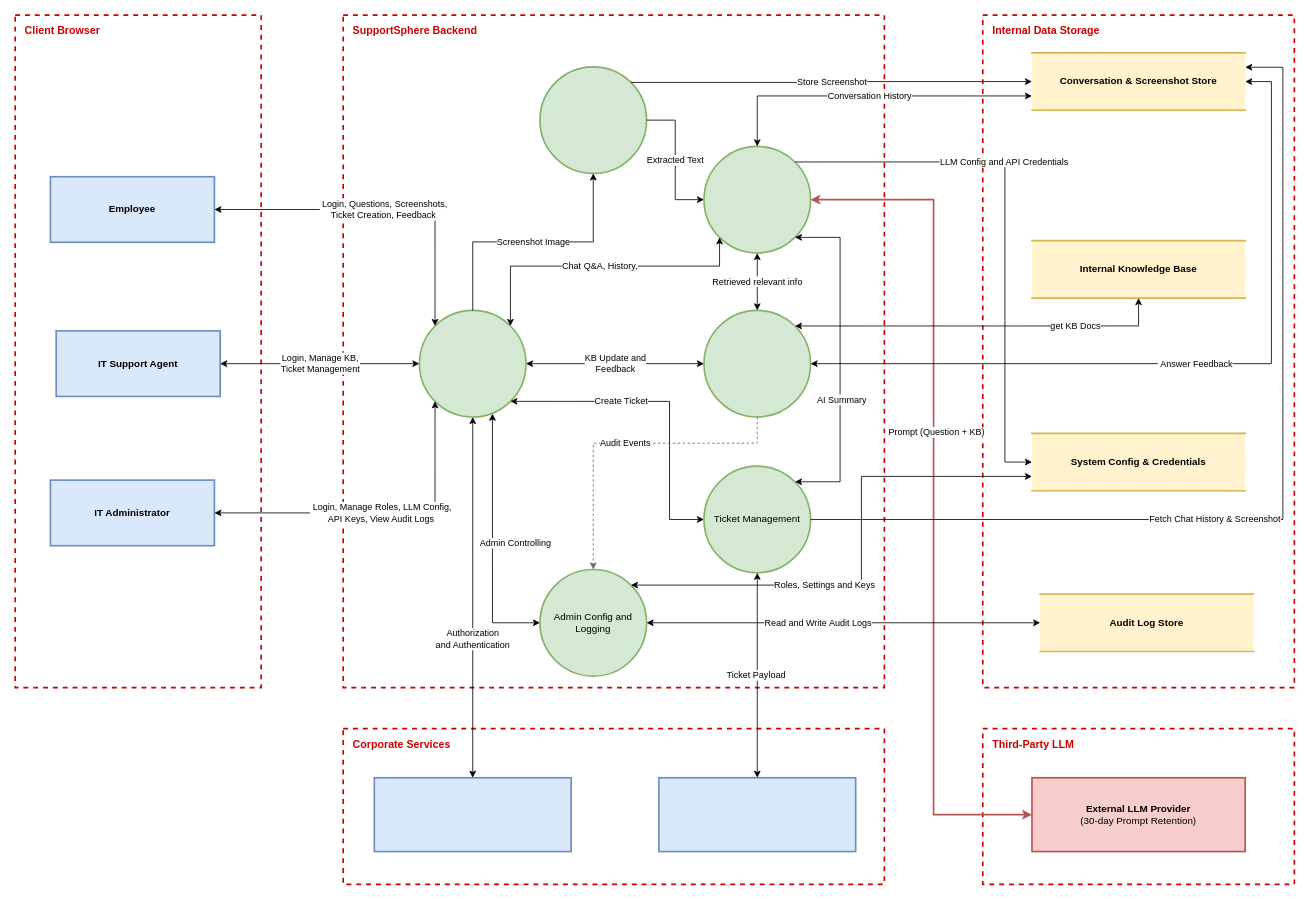
Some shapes in this 1309 by 899 pixel diagram are drawn without their labels. The shapes that lost their labels are listed below. From the top down, each one's centre as x and y in pixels, then its label:
At point (593, 120): "Screenshot Upload and extracted Text".
At point (757, 199): "Chat".
At point (472, 363): "Web Gateway".
At point (757, 363): "Knowledge Base and Feedback".
At point (472, 814): "Microsoft SSO".
At point (757, 814): "Help-Desk System".
